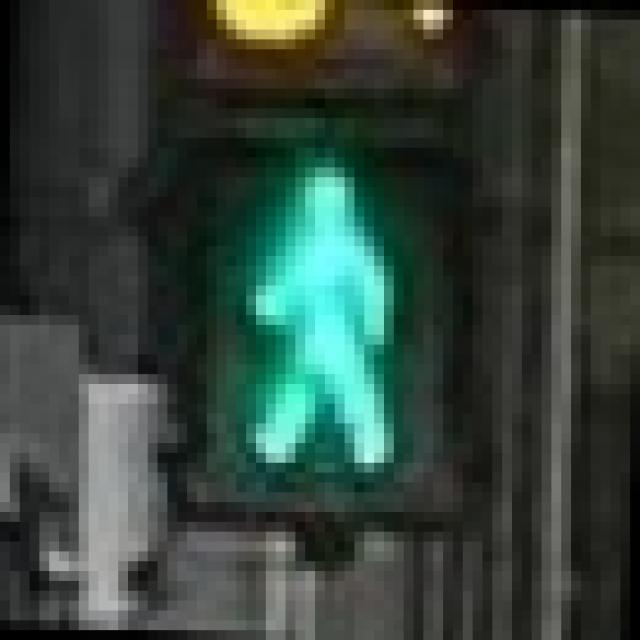geen-crossing: (128, 79, 482, 522)
